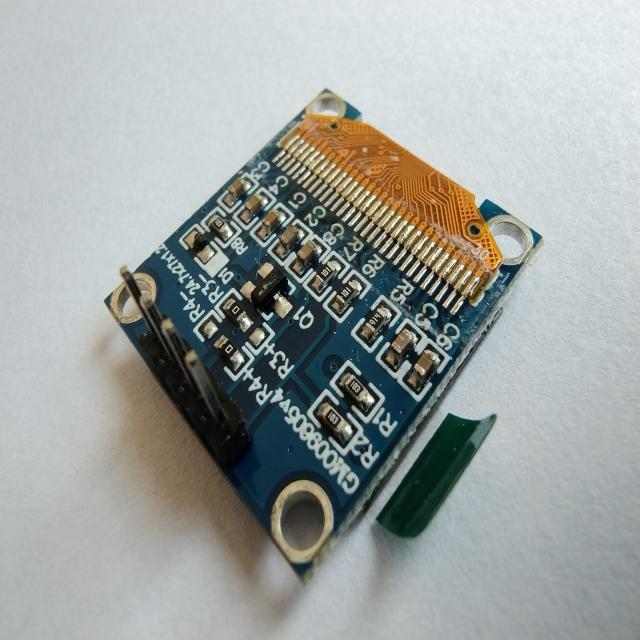oled: (96, 73, 560, 600)
